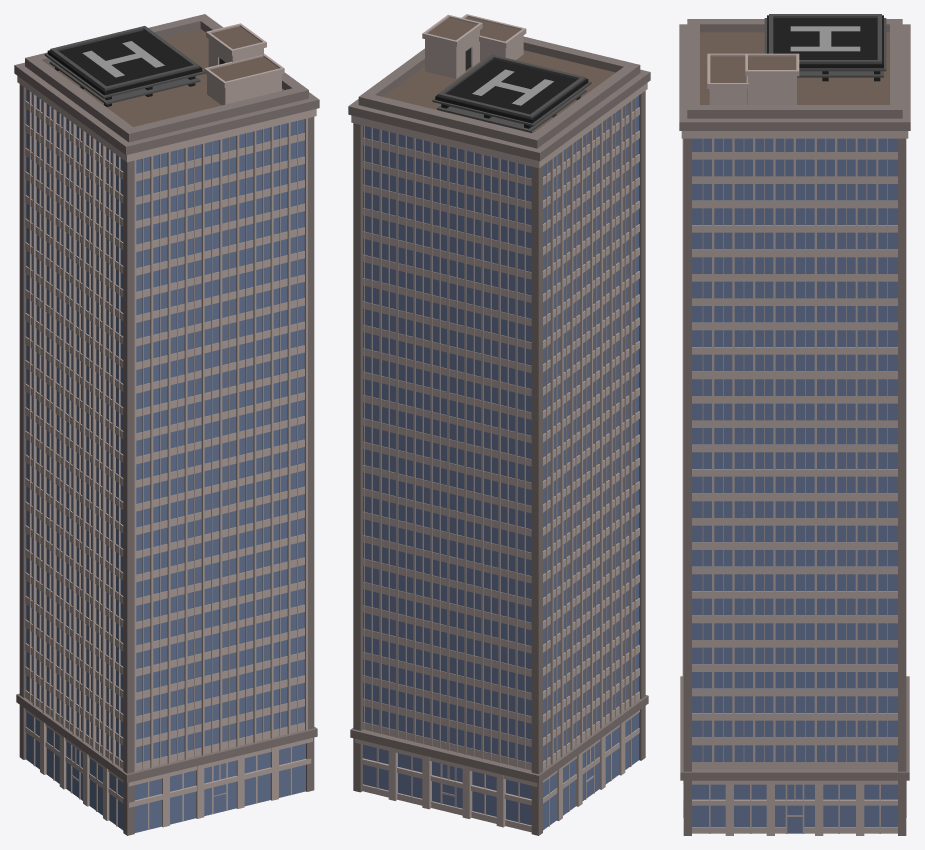
The model's file is LargeBuilding_01.fbx.
The picture shows the model from 3 angles, left to right: view 1: azimuth 30°, elevation 25°; view 2: azimuth 150°, elevation 25°; view 3: azimuth 270°, elevation 25°; orthographic projection. The views are drawn at different scales.
Visible parts, largest first — view 1: LargeBuilding_01; view 2: LargeBuilding_01; view 3: LargeBuilding_01.
Boxes of the visible parts, x1=… form: LargeBuilding_01: x1=14, y1=14, x2=319, y2=835; LargeBuilding_01: x1=348, y1=14, x2=650, y2=835; LargeBuilding_01: x1=679, y1=14, x2=910, y2=835.
Size of the model in its own units: 28.63 by 103 by 28.63.
